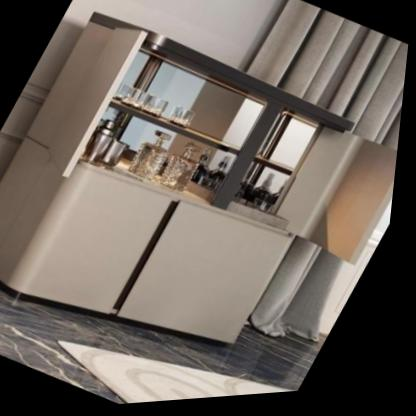Ceramic floor: (0, 281, 335, 407)
Cupboard: (0, 15, 354, 350)
Curtains: (246, 0, 410, 158)
